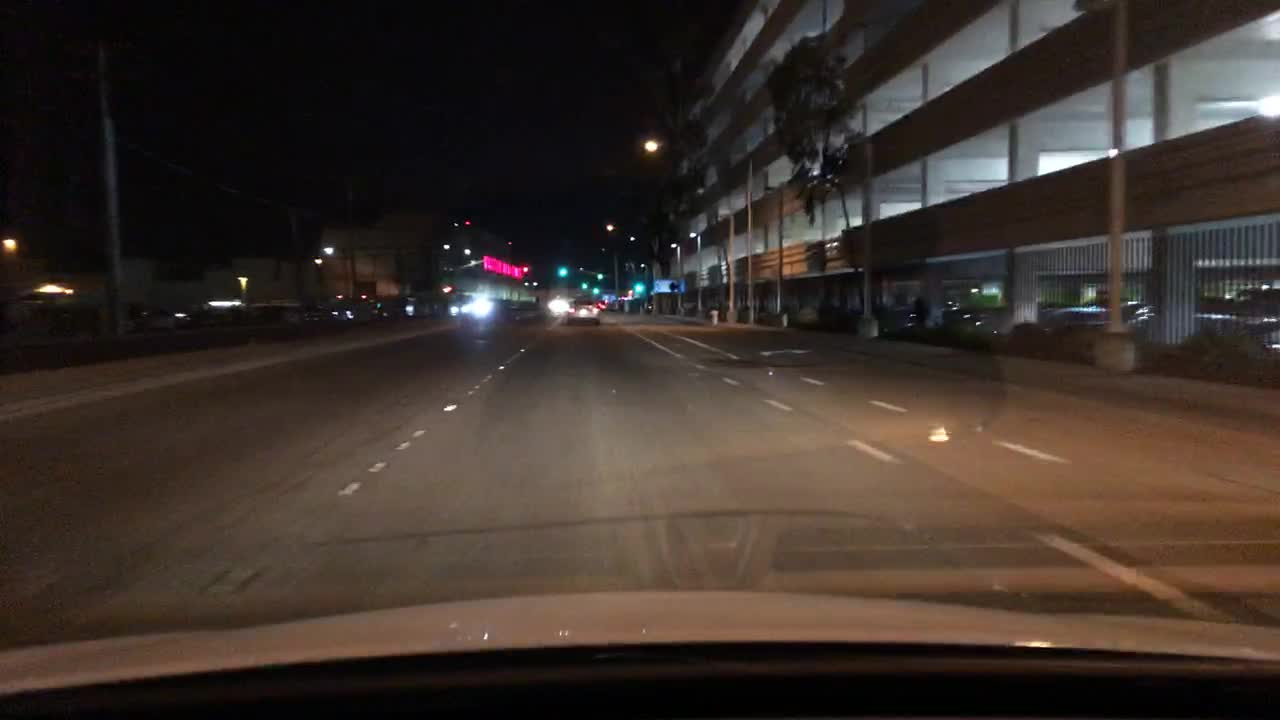car: (1196, 313, 1278, 354), (1215, 282, 1278, 311), (1034, 306, 1109, 326), (325, 296, 370, 325), (568, 296, 600, 328), (395, 297, 432, 321), (447, 295, 485, 316), (1124, 297, 1146, 325), (373, 296, 392, 323), (549, 301, 566, 313)
person: (913, 293, 929, 328)
traffic light: (631, 282, 648, 293), (579, 280, 588, 292), (558, 268, 566, 281), (591, 283, 602, 292), (595, 269, 605, 277)
